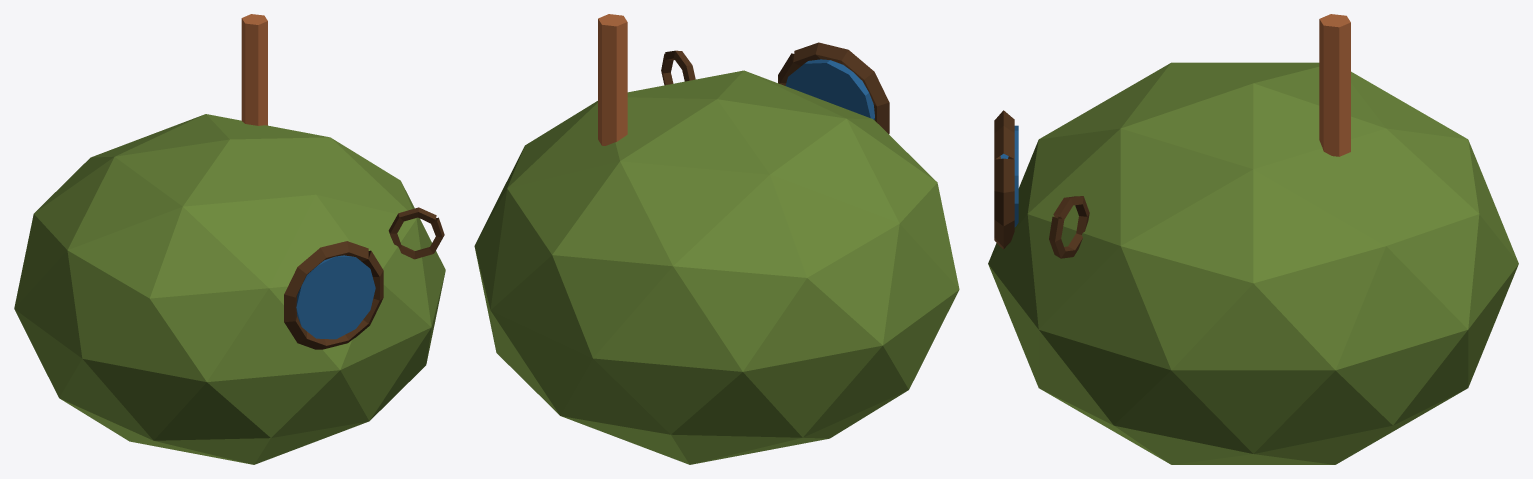
Rendered from gnome_house_c.glb.
3 views of the same model, side by side, from view 1: azimuth 30°, elevation 25°; view 2: azimuth 150°, elevation 25°; view 3: azimuth 270°, elevation 25° (orthographic). The views are drawn at different scales.
Parts seen in each view (by area): view 1: gnome_house_c; view 2: gnome_house_c; view 3: gnome_house_c.
Boxes of the visible parts, <box> form: gnome_house_c: <box>14,14,445,464</box>; gnome_house_c: <box>474,14,959,464</box>; gnome_house_c: <box>988,14,1518,464</box>.
Bounding box in the file's own units: 2.47 × 2.47 × 2.6.
